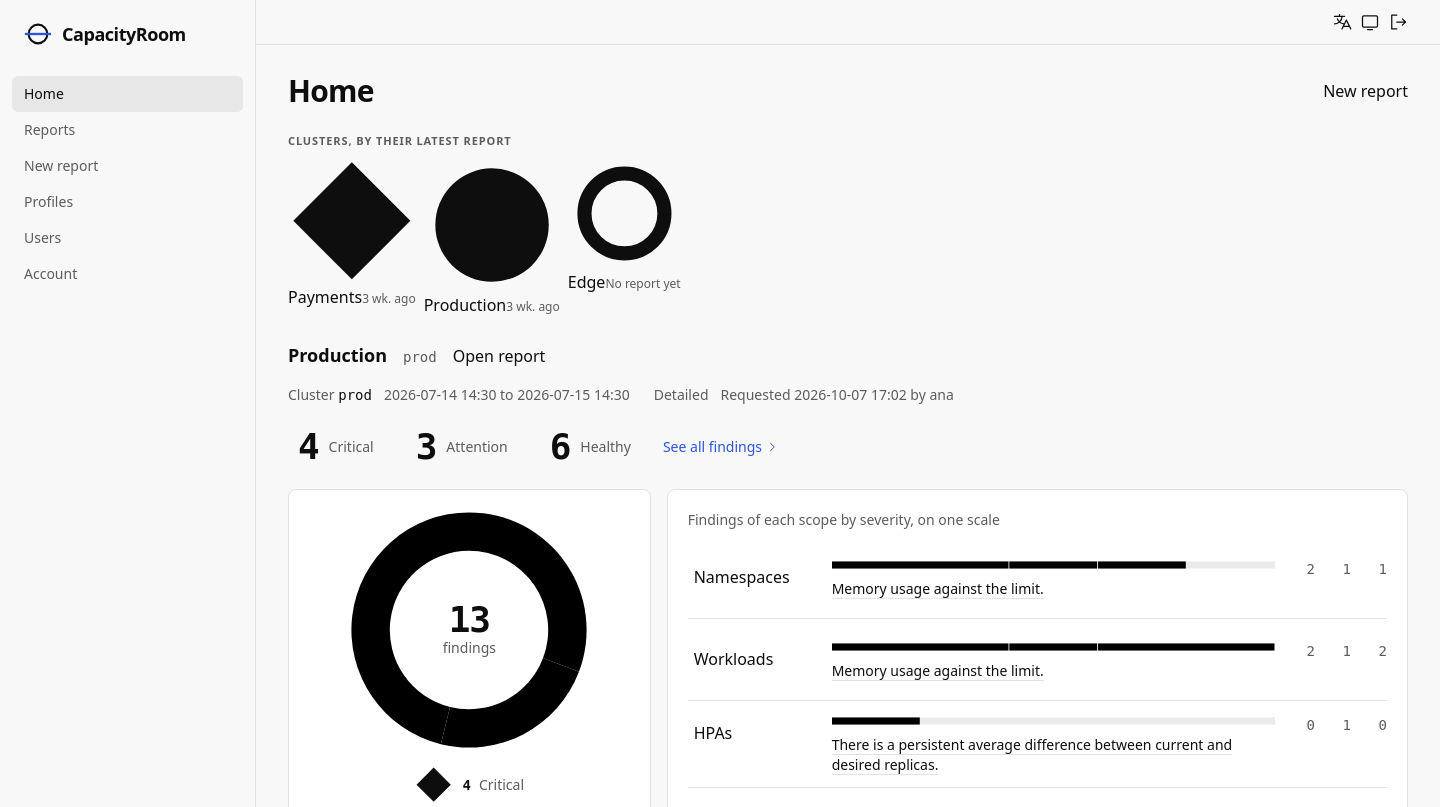
home page › drops the previous answer when the next view fails
The image size is (1440, 807).
Expected: the heading "Home" is shown, left=288, top=73, right=374, bottom=109
Click the link "Payments3 wk. ago".
click(288, 157)  # box left=288, top=157, right=416, bottom=308
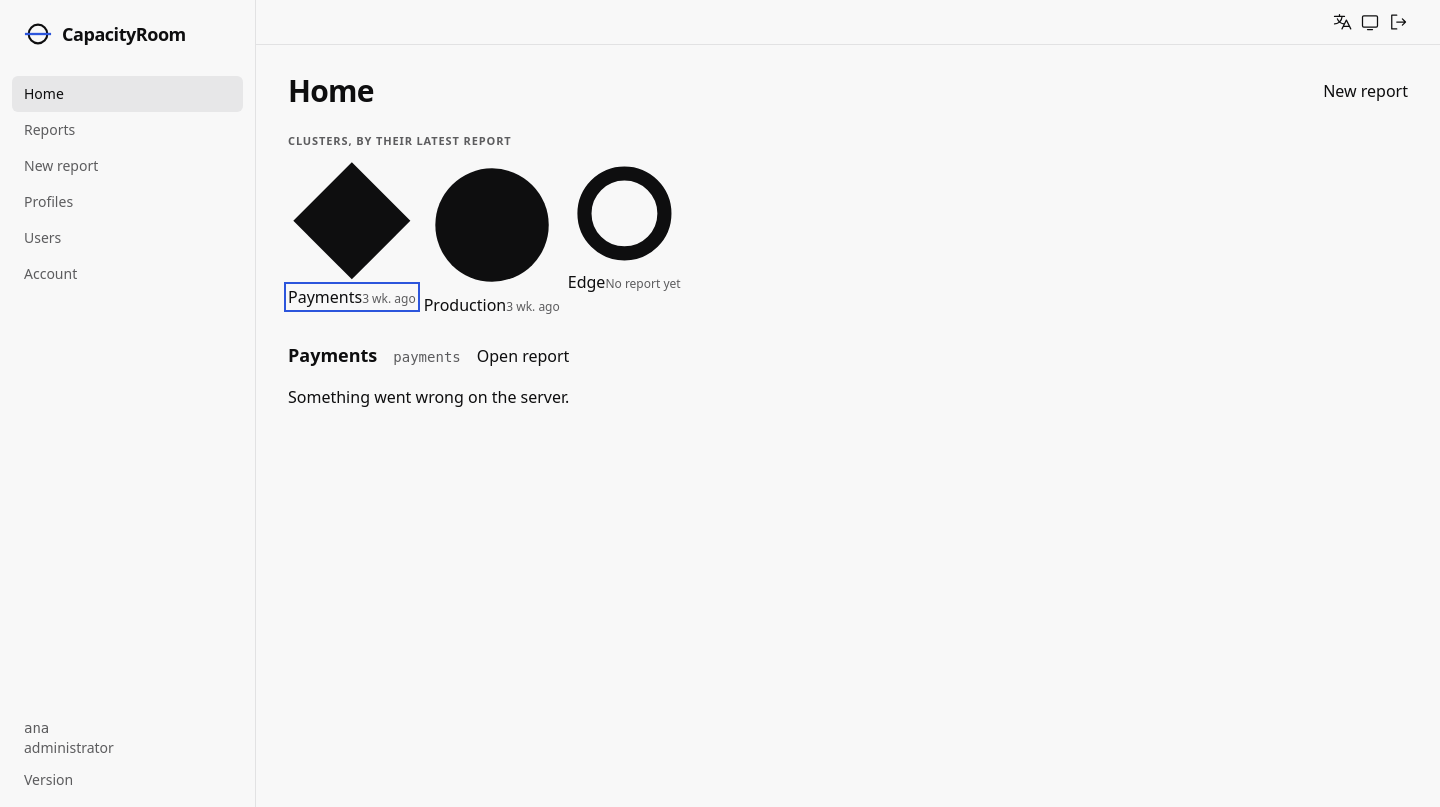
Result: the message "Something went wrong on the server." is shown at left=288, top=386, right=569, bottom=408
Result: the text "2026-07-14 14:30 to 2026-07-15 14:30" is gone
